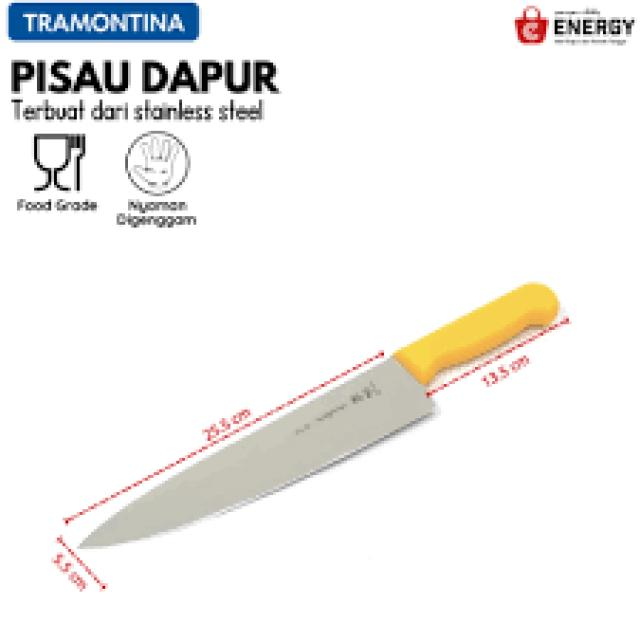Knife: (80, 284, 558, 546)
